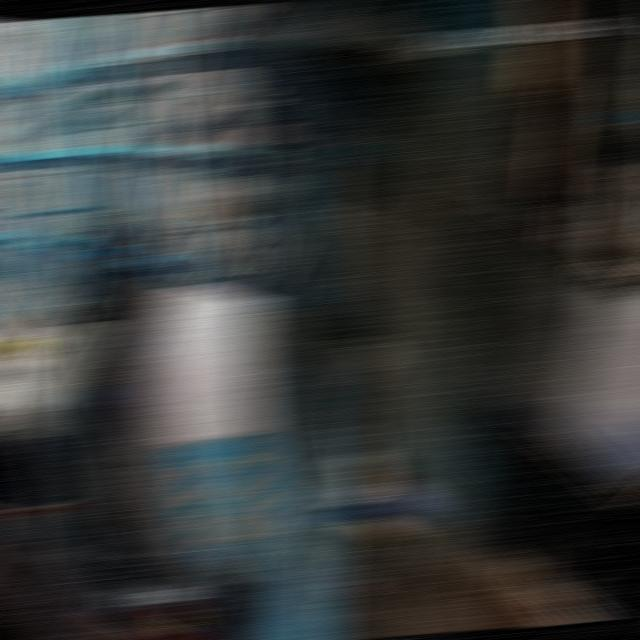cement_mixer_truck: (0, 285, 413, 639)
swing_chute: (278, 128, 386, 337)
